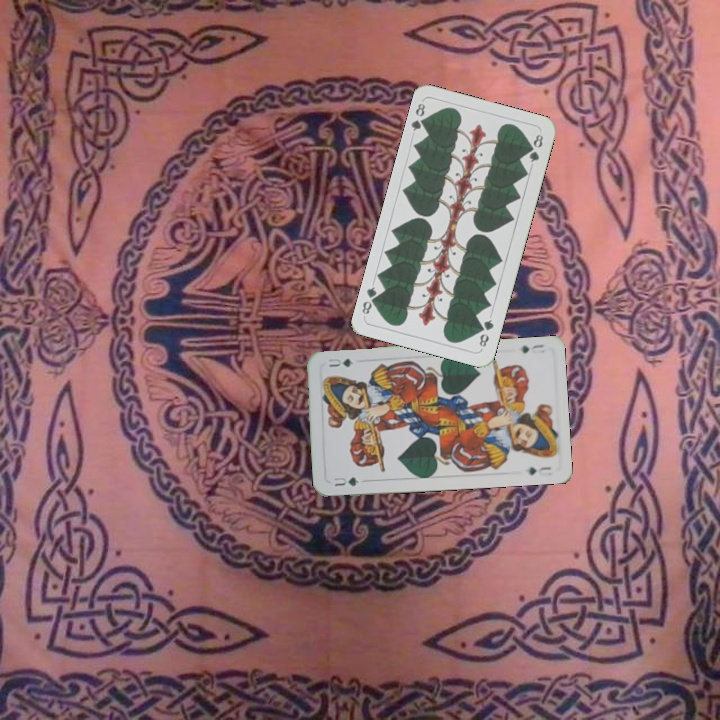G8: (407, 99, 431, 134), (475, 315, 496, 350)
GU: (330, 473, 361, 489), (517, 340, 547, 356)
